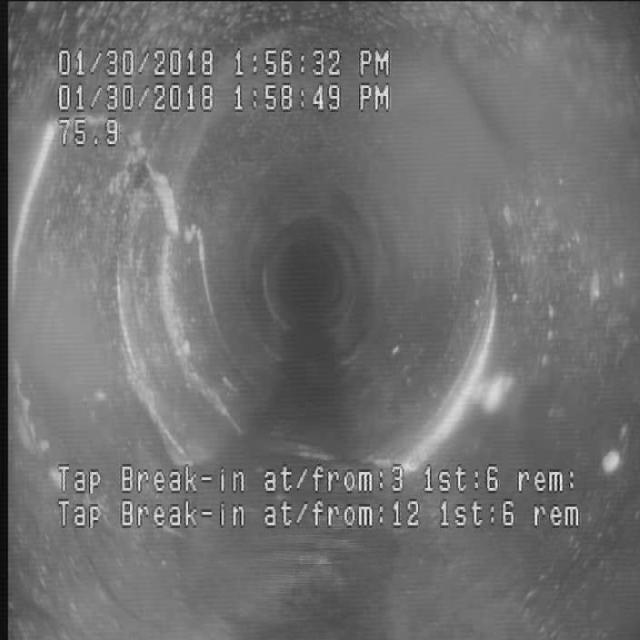Crack: (150, 145, 230, 338)
